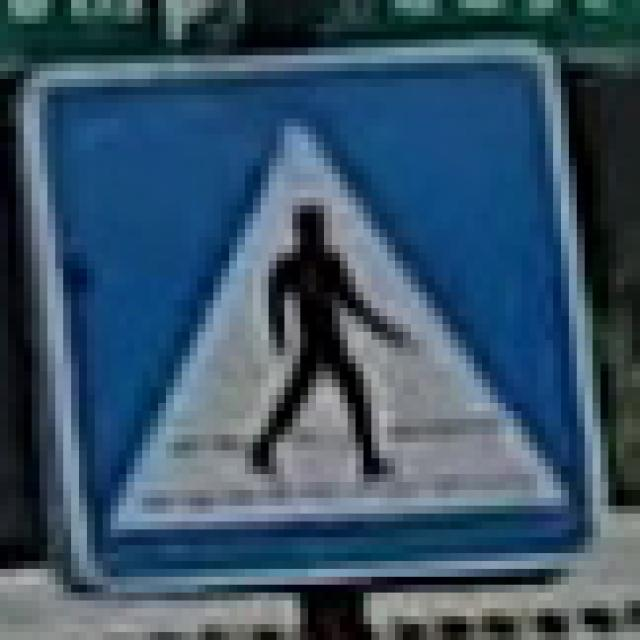zebracrossing_sign: (8, 31, 600, 592)
